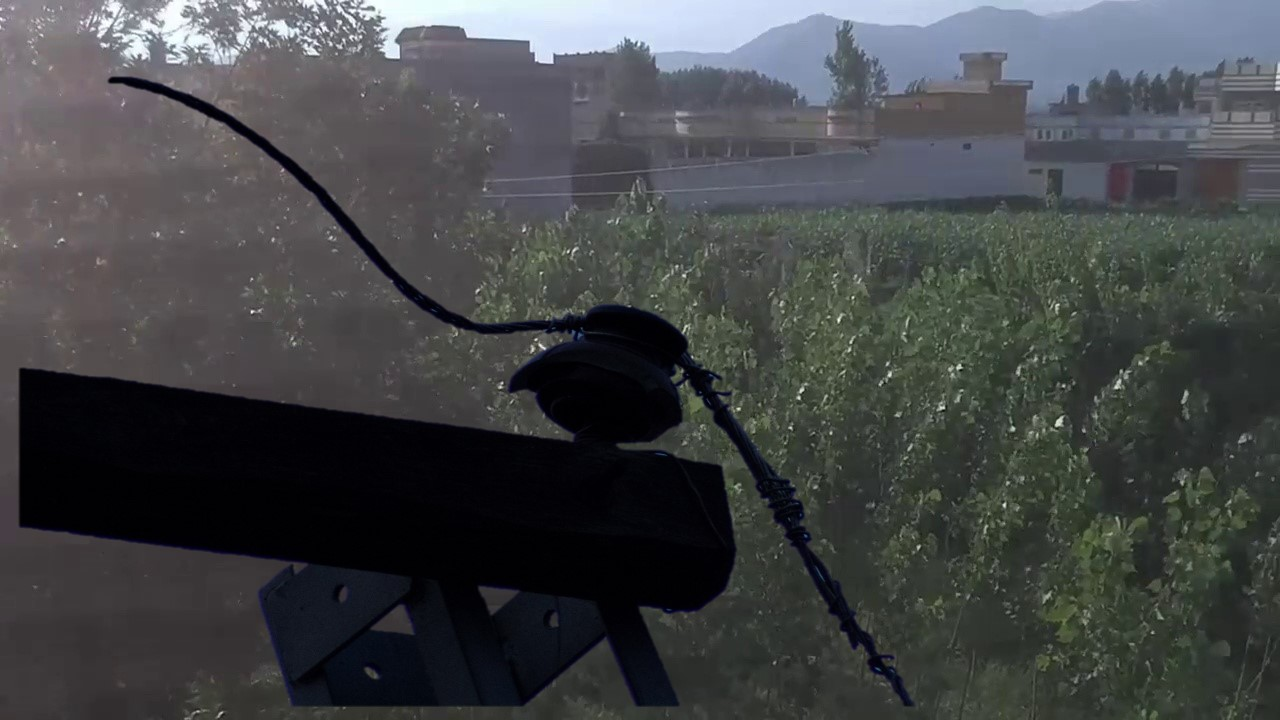defect_pin: (506, 300, 701, 454)
